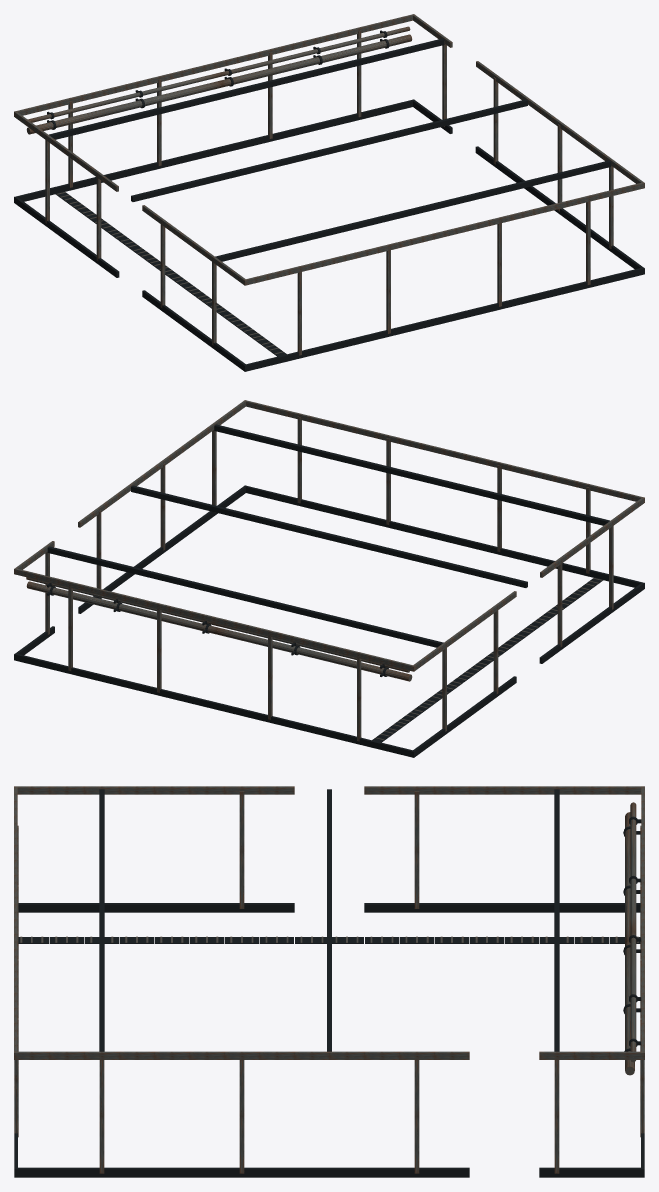
File: ServiceStructure02.obj
The picture shows the model from 3 angles, top to bottom: view 1: azimuth 30°, elevation 25°; view 2: azimuth 150°, elevation 25°; view 3: azimuth 270°, elevation 25°; orthographic projection. The views are drawn at different scales.
Visible parts, largest first — view 1: ServiceStructure02; view 2: ServiceStructure02; view 3: ServiceStructure02.
Boxes of the visible parts, bbox=[...] form: ServiceStructure02: bbox=[14, 14, 644, 371]; ServiceStructure02: bbox=[14, 400, 644, 757]; ServiceStructure02: bbox=[14, 786, 644, 1177].
Size of the model in its own units: 18.02 by 3.93 by 18.02.
3 materials, 2 textured.
